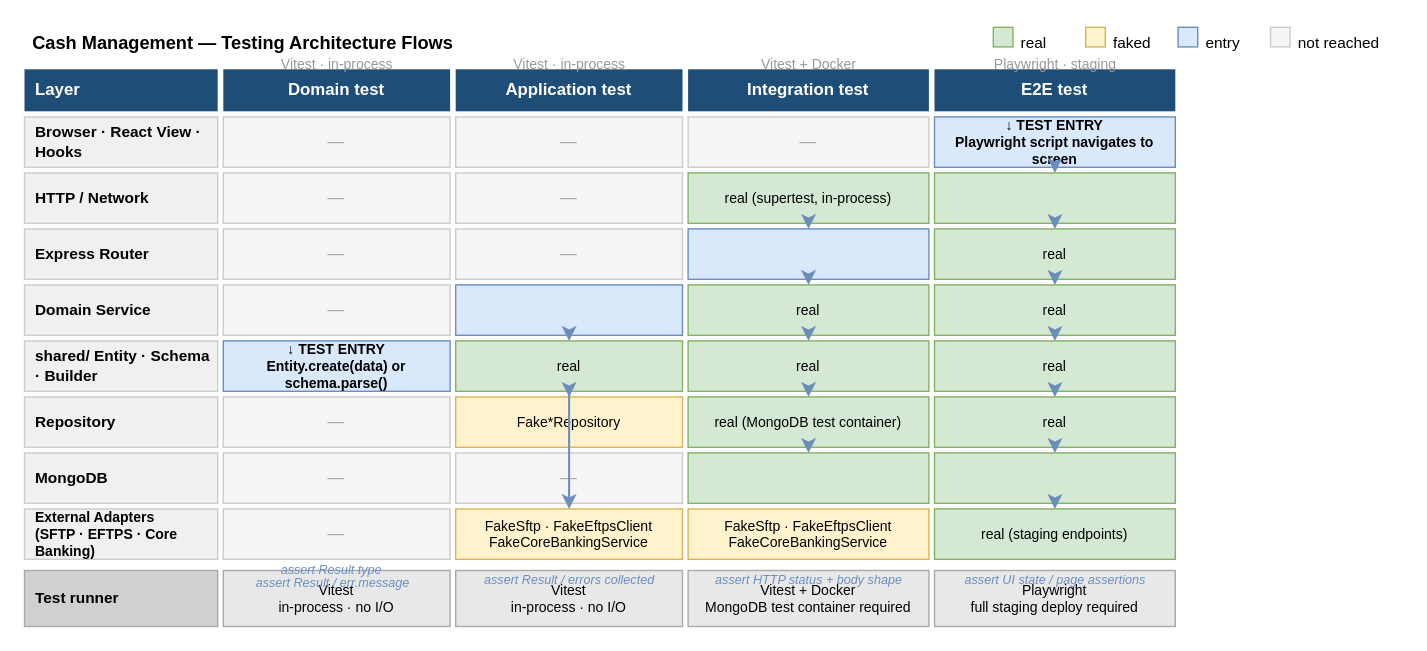
Image size: 1427x651. Some labels were removed from this diagram. The centre of each missing label's shape, as x and y in pixels:
"real (HTTPS · staging)" goes at point 1054,197.
"real (staging)" goes at point 1054,477.
"real (test container)" goes at point 808,477.
"↓ TEST ENTRY service.execute(command)" goes at point 568,309.
"↓ TEST ENTRY supertest POST /api/..." goes at point 808,253.
